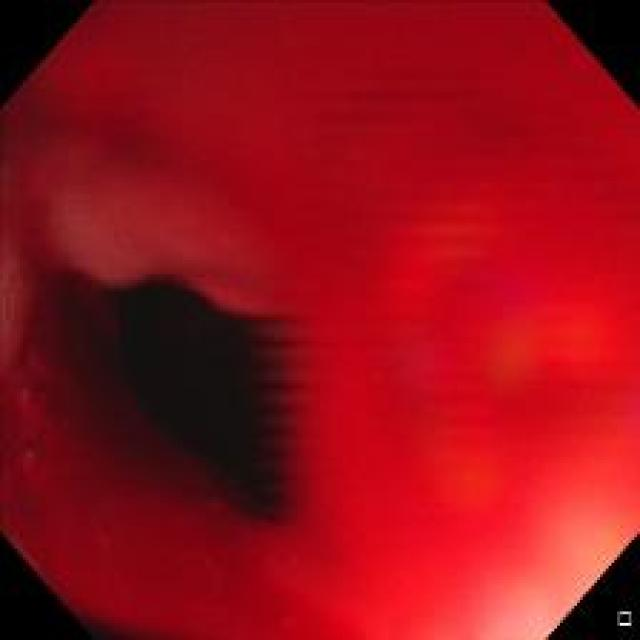color misalignment: (14, 6, 632, 632)
contrast: (18, 224, 315, 531)
